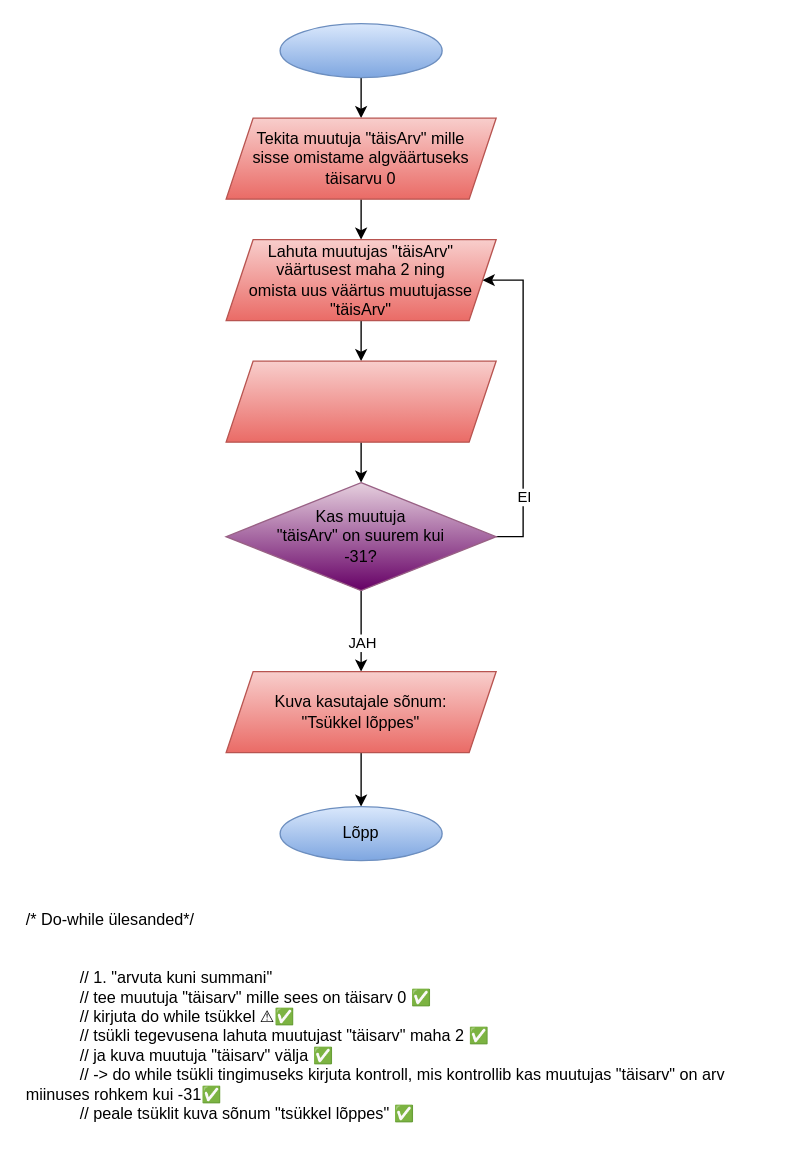
Some shapes in this 802 by 1168 pixel diagram are drawn without their labels. Each missing label, with the centre of its shape:
Algus: [360,50]
Kuva kasutajale muutujas "täisArv" olev väärtus välja: [360,401]
